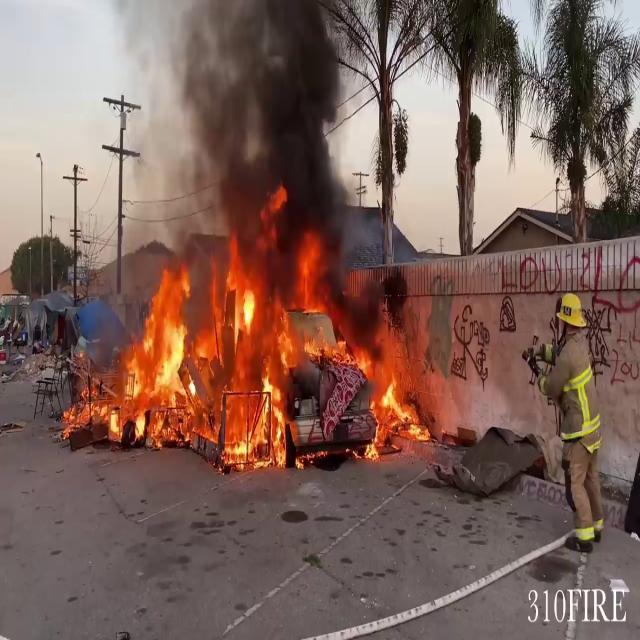Fire: (94, 233, 438, 468)
Smoke: (158, 0, 364, 251)
